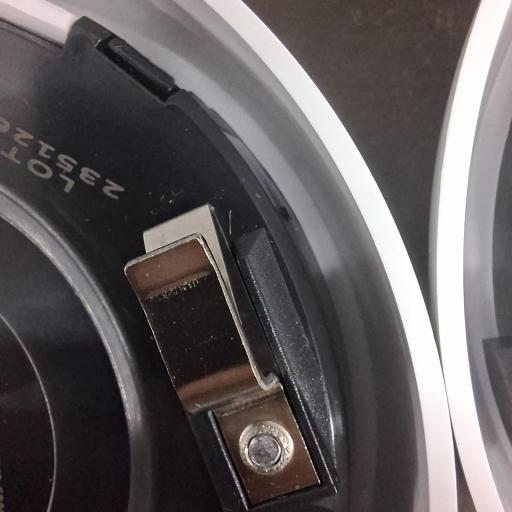yayli: (122, 218, 314, 503)
